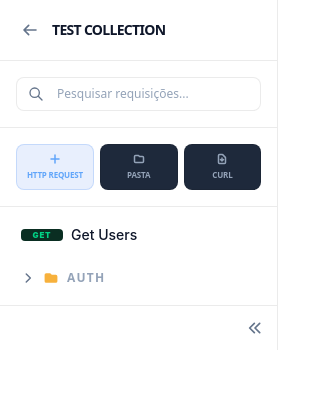
CollectionSidebar › renders folder items and expands on click
The width and height of the screenshot is (320, 411).
Click the text "Auth" at (86, 278), box [67,269,105,286]
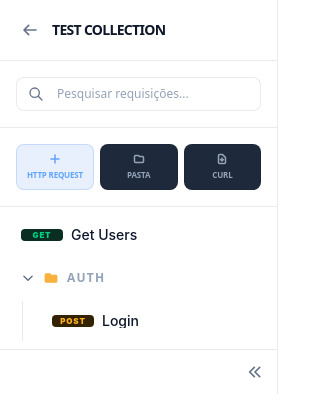
expect the text "Login" is shown: met, box [102,312,139,329]
